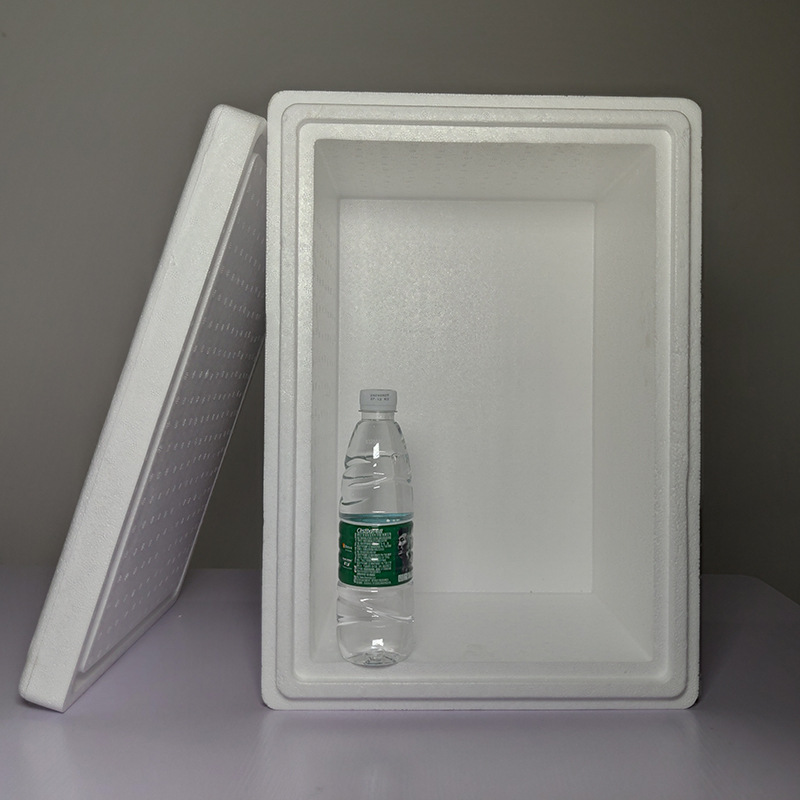Boxes: (262, 92, 699, 710)
